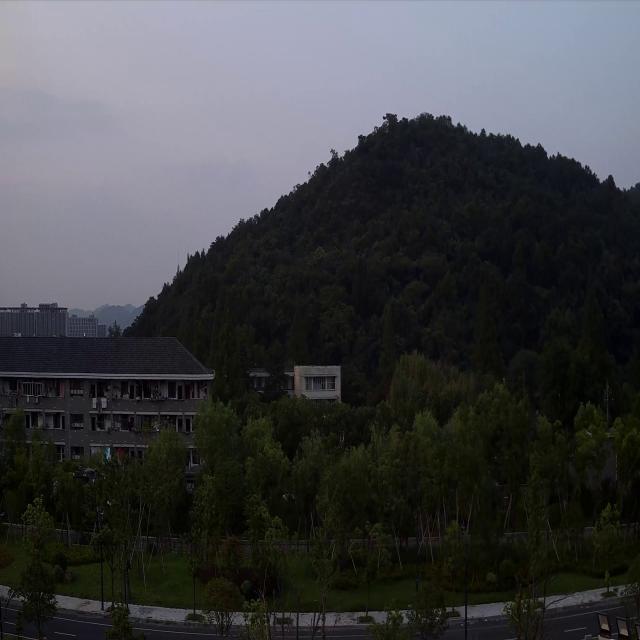UAV: (72, 463, 104, 483)
